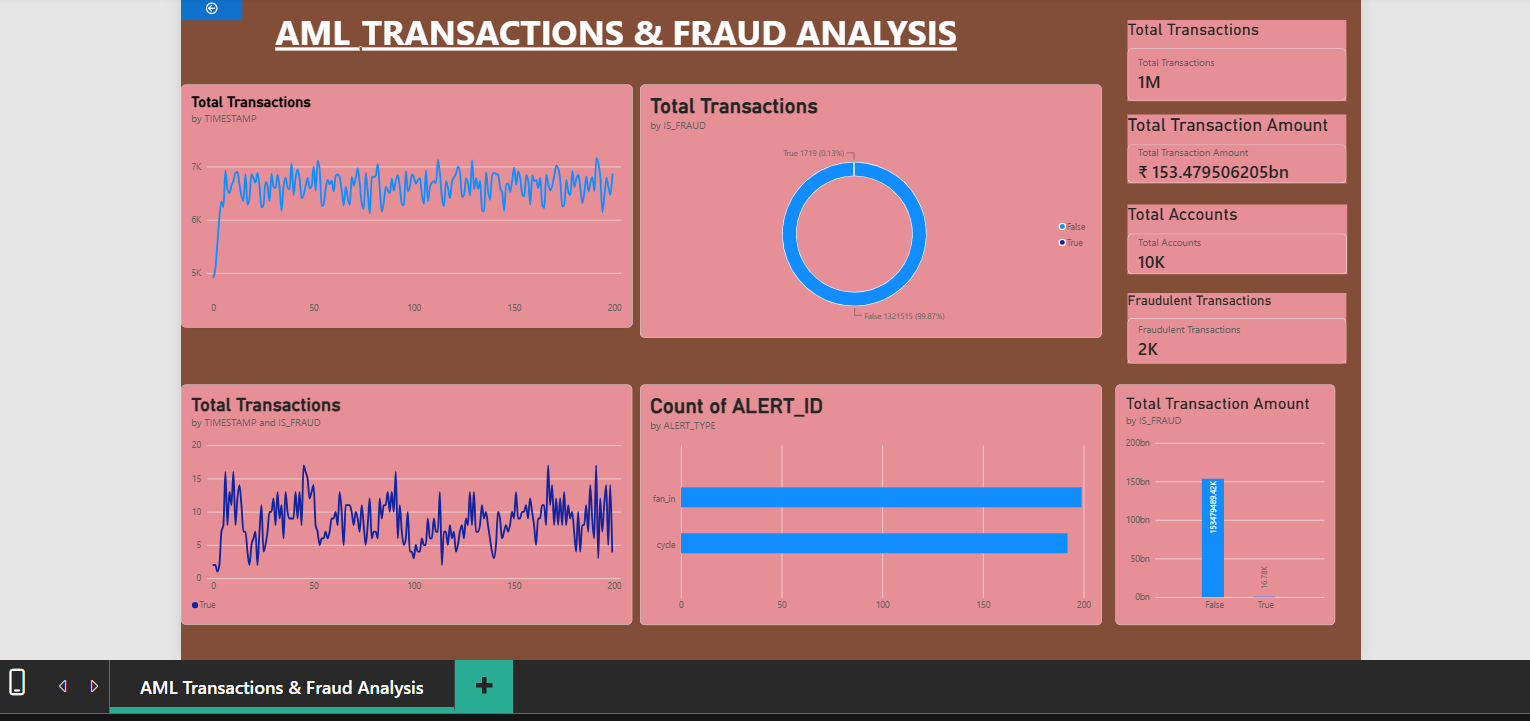

Layout of this report page (visuals, bound fields, positions):
{"tool":"powerbi","page":{"name":"Page 1","canvas":[1920,1080],"ordinal":0},"visuals":[{"type":"cardVisual","title":"Total Transactions","fields":{"Data":["Transactions.Total Transactions"]},"box":[10,0,280,280],"z":0},{"type":"cardVisual","title":"Total Transaction Amount","fields":{"Data":["Transactions.Total Transaction Amount"]},"box":[10,290,280,280],"z":1000},{"type":"cardVisual","title":"Total Accounts\t ","fields":{"Data":["Accounts.Total Accounts"]},"box":[10,580,280,280],"z":2000},{"type":"cardVisual","title":"Fraudulent Transactions","fields":{"Data":["Transactions.Fraudulent Transactions"]},"box":[10,870,280,210],"z":3000},{"type":"lineChart","fields":{"Category":["Transactions.TIMESTAMP"],"Y":["Transactions.Total Transactions"]},"box":[356.2,17.1,802.7,412.3],"z":4000},{"type":"donutChart","fields":{"Category":["Transactions.IS_FRAUD"],"Y":["Transactions.Total Transactions"]},"box":[1169,17,751,412],"z":5000},{"type":"lineChart","fields":{"Category":["Transactions.TIMESTAMP"],"Y":["Transactions.Total Transactions"]},"box":[356.2,429.4,885.7,431.8],"z":5001}]}

Visuals, with their boxes on the page's 1920x1080 design canvas (x1, y1, x2, y2). These are canvas units, not pixel positions in the 1530x721 screenshot, which may show the page scaled, cropped or inside an application window:
"Total Transactions" cardVisual: <bbox>10, 0, 290, 280</bbox>
"Total Transaction Amount" cardVisual: <bbox>10, 290, 290, 570</bbox>
"Total Accounts	 " cardVisual: <bbox>10, 580, 290, 860</bbox>
"Fraudulent Transactions" cardVisual: <bbox>10, 870, 290, 1080</bbox>
lineChart - Transactions.TIMESTAMP x Transactions.Total Transactions: <bbox>356, 17, 1159, 429</bbox>
donutChart - Transactions.IS_FRAUD x Transactions.Total Transactions: <bbox>1169, 17, 1920, 429</bbox>
lineChart - Transactions.TIMESTAMP x Transactions.Total Transactions: <bbox>356, 429, 1242, 861</bbox>
